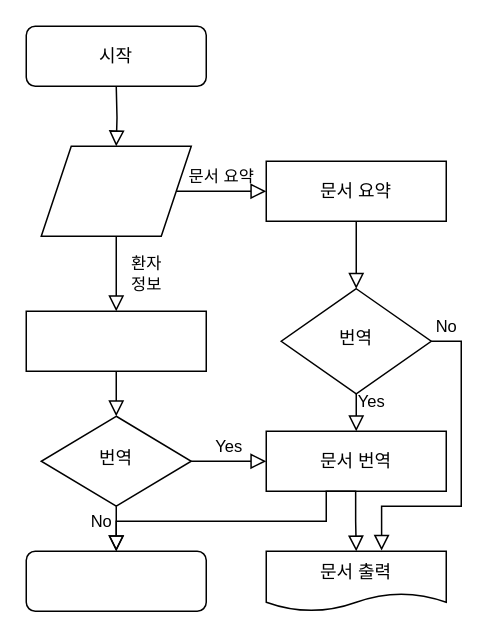
Image size: 503x638. Some labels were removed from this diagram. Here are the shapes that lost their labels. From the top down, the centre of each, then its label:
At point 115,190: "Chat 입력".
At point 115,340: "정보 분류".
At point 115,580: "EMR 데이터베이스에 저장".
